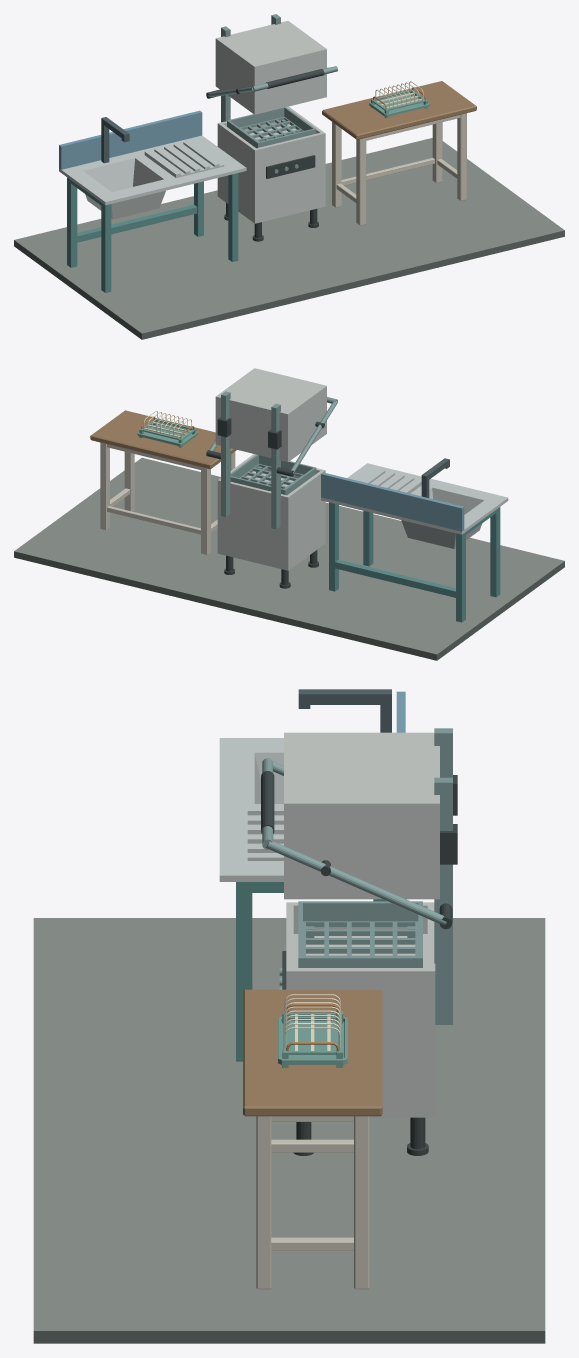
The picture shows the model from 3 angles, top to bottom: view 1: azimuth 30°, elevation 25°; view 2: azimuth 150°, elevation 25°; view 3: azimuth 270°, elevation 25°; orthographic projection. The views are drawn at different scales.
Visible parts, largest first — view 1: SCENE_ONLY__DisplayFloor, washer__WholeRaisedFourWallAndRoofHood, washer__WholeLowerCabinetWithOpenSquareWell, sink__IntegralOffsetDeepBasinAndSideDeck, table__Complete work surface, sink__RearBlueSplashPanel, washer__WholeOpenCellAndRaisedRimDishRack, sink__LeftOpenEndTrestle, sink__ContinuousFiveRibDrainboard, sink__RightOpenEndTrestle, sink__RearLowerFrameStretcher, table__Worktable leg (+8 smaller); view 2: SCENE_ONLY__DisplayFloor, washer__WholeLowerCabinetWithOpenSquareWell, washer__WholeRaisedFourWallAndRoofHood, sink__IntegralOffsetDeepBasinAndSideDeck, sink__RearBlueSplashPanel, table__Complete work surface, sink__LeftOpenEndTrestle, washer__WholeOpenCellAndRaisedRimDishRack, sink__RightOpenEndTrestle, sink__RearLowerFrameStretcher, washer__WholeRearVerticalGuide_1, washer__WholeRearVerticalGuide_-1 (+8 smaller); view 3: SCENE_ONLY__DisplayFloor, washer__WholeRaisedFourWallAndRoofHood, table__Complete work surface, washer__WholeLowerCabinetWithOpenSquareWell, washer__WholeOpenCellAndRaisedRimDishRack, sink__IntegralOffsetDeepBasinAndSideDeck, washer__WholeRearVerticalGuide_1, table__Worktable leg.002, table__Worktable leg.003, sink__RightOpenEndTrestle, rack__CatchTray_ContinuousShallowShell, sink__FixedHighAngularTapExterior (+5 smaller).
Boxes of the visible parts, x1,y1,x2,y2 form: SCENE_ONLY__DisplayFloor: (14, 138, 564, 339); washer__WholeRaisedFourWallAndRoofHood: (215, 20, 326, 114); washer__WholeLowerCabinetWithOpenSquareWell: (217, 106, 325, 223); sink__IntegralOffsetDeepBasinAndSideDeck: (59, 135, 246, 219); table__Complete work surface: (322, 81, 476, 139); sink__RearBlueSplashPanel: (59, 110, 202, 169); washer__WholeOpenCellAndRaisedRimDishRack: (227, 107, 316, 148); sink__LeftOpenEndTrestle: (67, 177, 111, 292); sink__ContinuousFiveRibDrainboard: (144, 141, 224, 177); sink__RightOpenEndTrestle: (194, 173, 238, 261); sink__RearLowerFrameStretcher: (77, 204, 197, 242); table__Worktable leg: (356, 138, 366, 225); SCENE_ONLY__DisplayFloor: (14, 457, 564, 660); washer__WholeLowerCabinetWithOpenSquareWell: (217, 454, 325, 570); washer__WholeRaisedFourWallAndRoofHood: (215, 368, 326, 461); sink__IntegralOffsetDeepBasinAndSideDeck: (321, 463, 508, 548); sink__RearBlueSplashPanel: (321, 472, 464, 531); table__Complete work surface: (90, 410, 236, 469); sink__LeftOpenEndTrestle: (456, 507, 500, 622); washer__WholeOpenCellAndRaisedRimDishRack: (230, 454, 316, 495); sink__RightOpenEndTrestle: (329, 502, 373, 591); sink__RearLowerFrameStretcher: (335, 559, 455, 597); washer__WholeRearVerticalGuide_1: (221, 391, 230, 516); washer__WholeRearVerticalGuide_-1: (271, 403, 280, 529); SCENE_ONLY__DisplayFloor: (33, 918, 545, 1343); washer__WholeRaisedFourWallAndRoofHood: (284, 732, 439, 899); table__Complete work surface: (243, 989, 382, 1116); washer__WholeLowerCabinetWithOpenSquareWell: (286, 902, 435, 1117); washer__WholeOpenCellAndRaisedRimDishRack: (298, 901, 422, 967); sink__IntegralOffsetDeepBasinAndSideDeck: (219, 738, 283, 881); washer__WholeRearVerticalGuide_1: (434, 777, 452, 1024); table__Worktable leg.002: (256, 1116, 271, 1289); table__Worktable leg.003: (354, 1116, 369, 1289); sink__RightOpenEndTrestle: (236, 882, 386, 1061); rack__CatchTray_ContinuousShallowShell: (278, 1016, 347, 1064); sink__FixedHighAngularTapExterior: (298, 689, 391, 732).
Size of the model in its own units: 4.2 by 1.81 by 2.2.
